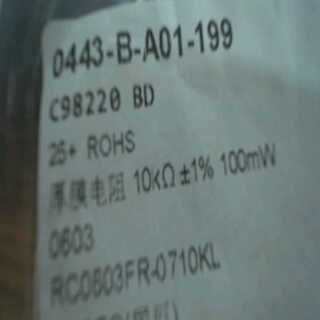10kR: (130, 162, 182, 194)
